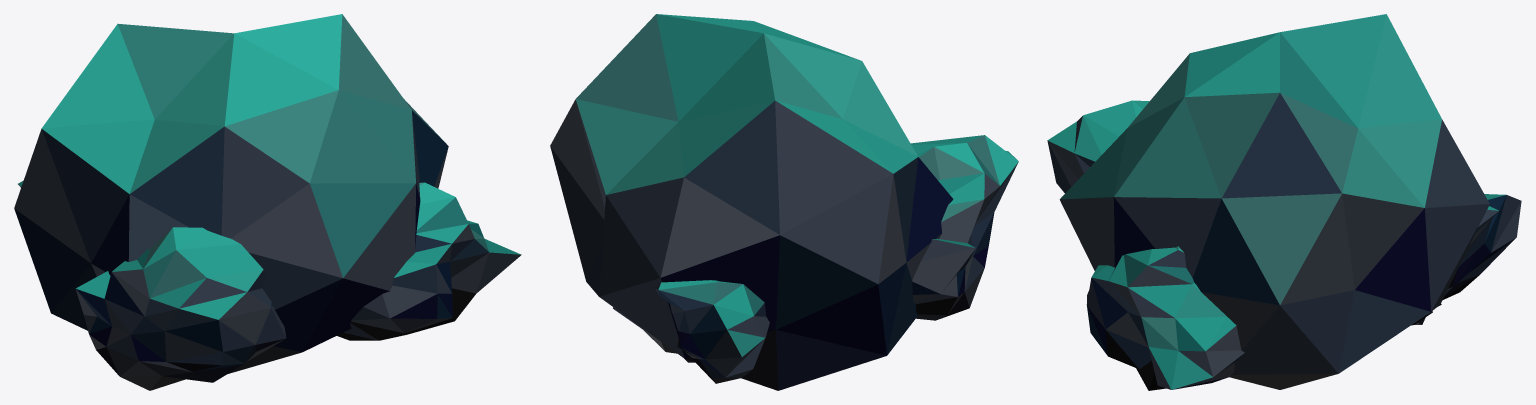
The model's file is batu_boulder_basalt_348018.glb.
The picture shows the model from 3 angles, left to right: view 1: azimuth 30°, elevation 25°; view 2: azimuth 150°, elevation 25°; view 3: azimuth 270°, elevation 25°; orthographic projection.
Parts seen in each view (by area): view 1: Batu_Jeram_Sungai; view 2: Batu_Jeram_Sungai; view 3: Batu_Jeram_Sungai.
Part boxes in pixels (bbox=[...]): Batu_Jeram_Sungai: bbox=[14, 14, 521, 390]; Batu_Jeram_Sungai: bbox=[550, 14, 1018, 390]; Batu_Jeram_Sungai: bbox=[1047, 14, 1521, 390].
Bounding box in the file's own units: 6.56 × 4.47 × 6.34.
